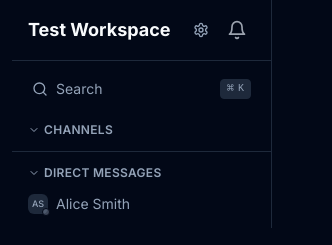
Scenario: ChannelSidebar › collapses the Direct Messages section
This screenshot has width=332, height=245.
Expected: the text "Alice Smith" is shown, x1=56 y1=194 x2=130 y2=214
Click the button "Direct Messages" at x=95, y=173, box x1=28 y1=165 x2=162 y2=181
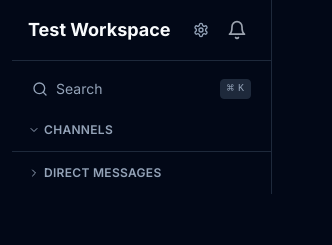
Now the button "Alice Smith" is gone
